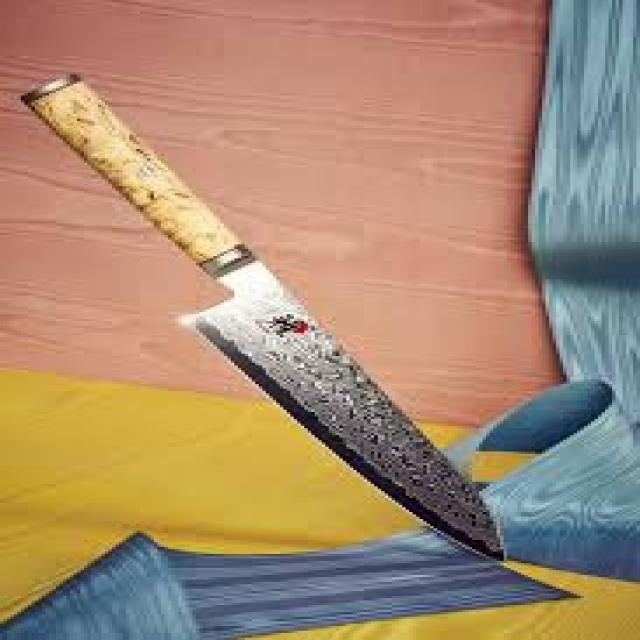knives: (0, 63, 574, 572)
